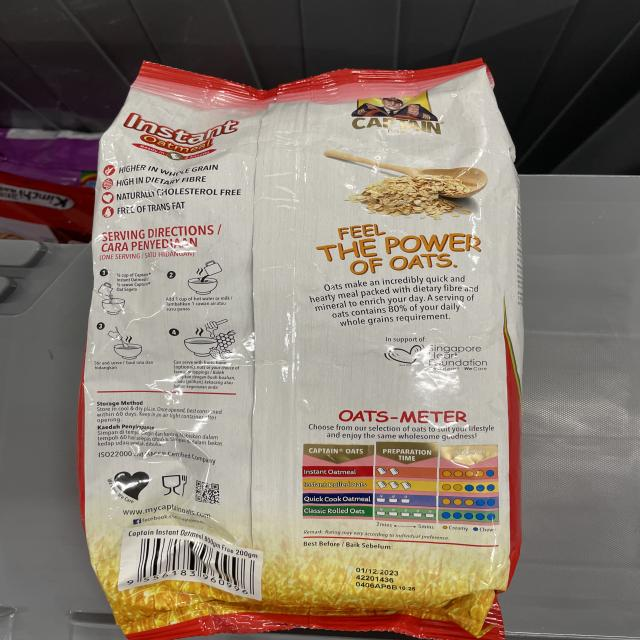object_name: (114, 87, 489, 632)
